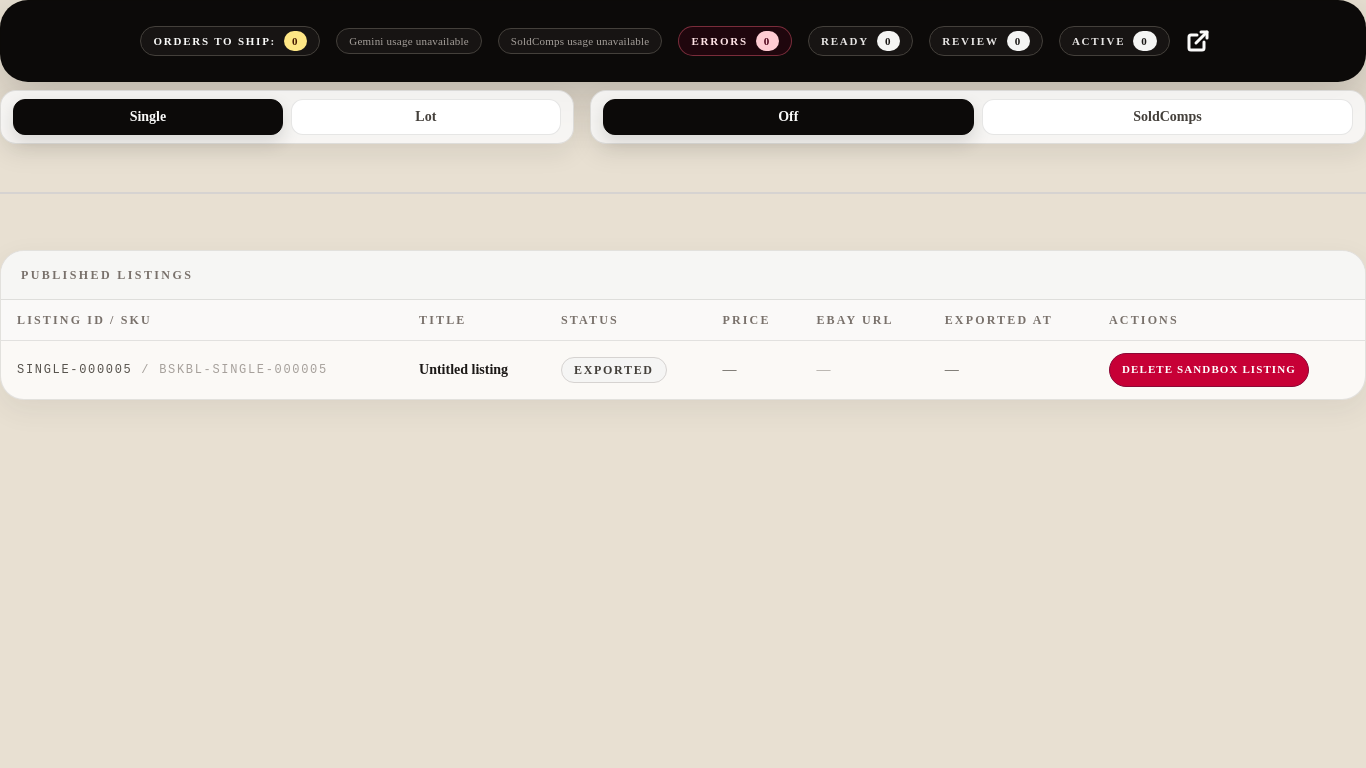
Test case: ListingsRealtime › removes a deleted sandbox listing without waiting for realtime
Click the button "Delete Sandbox Listing".
click(1209, 370)  # box [1109,353,1309,387]
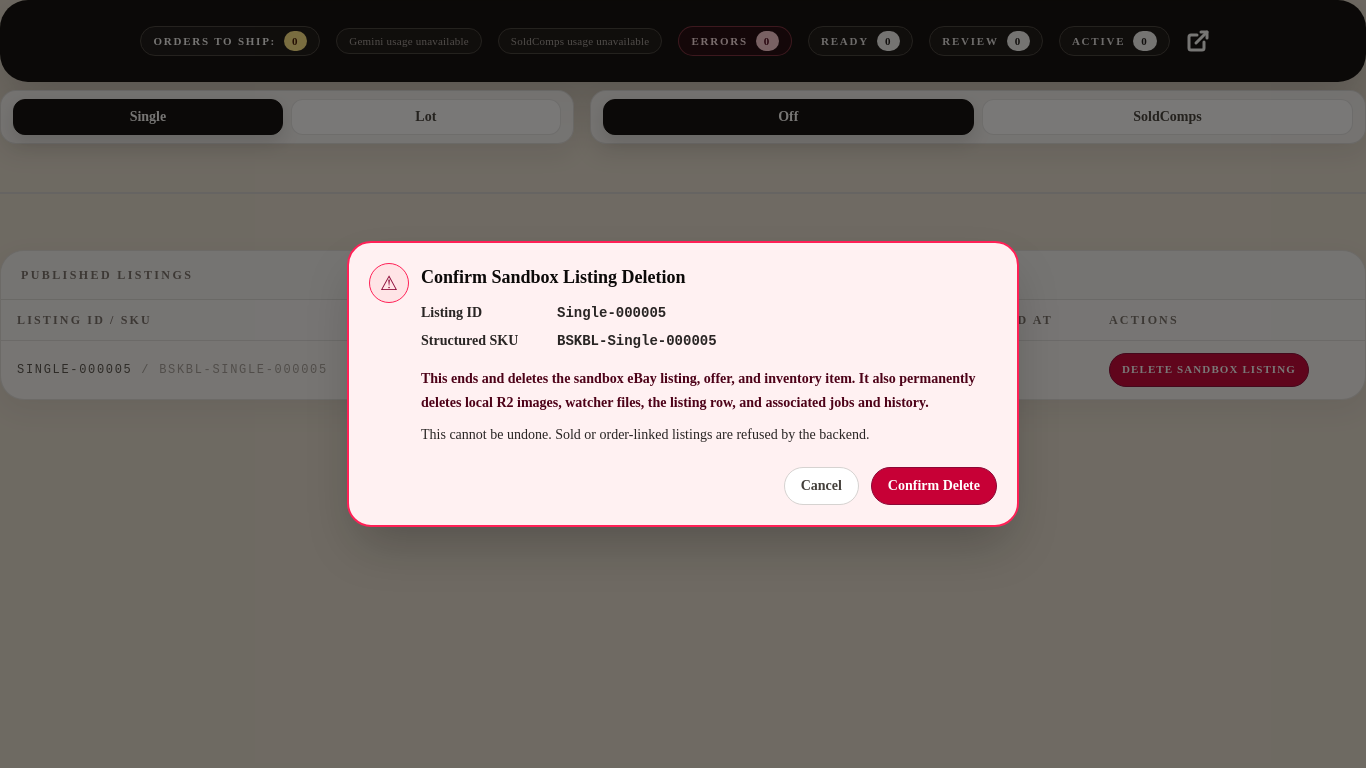
Click the button "Confirm Delete".
click(934, 486)  # box [871,467,997,505]
Wait 20 ms
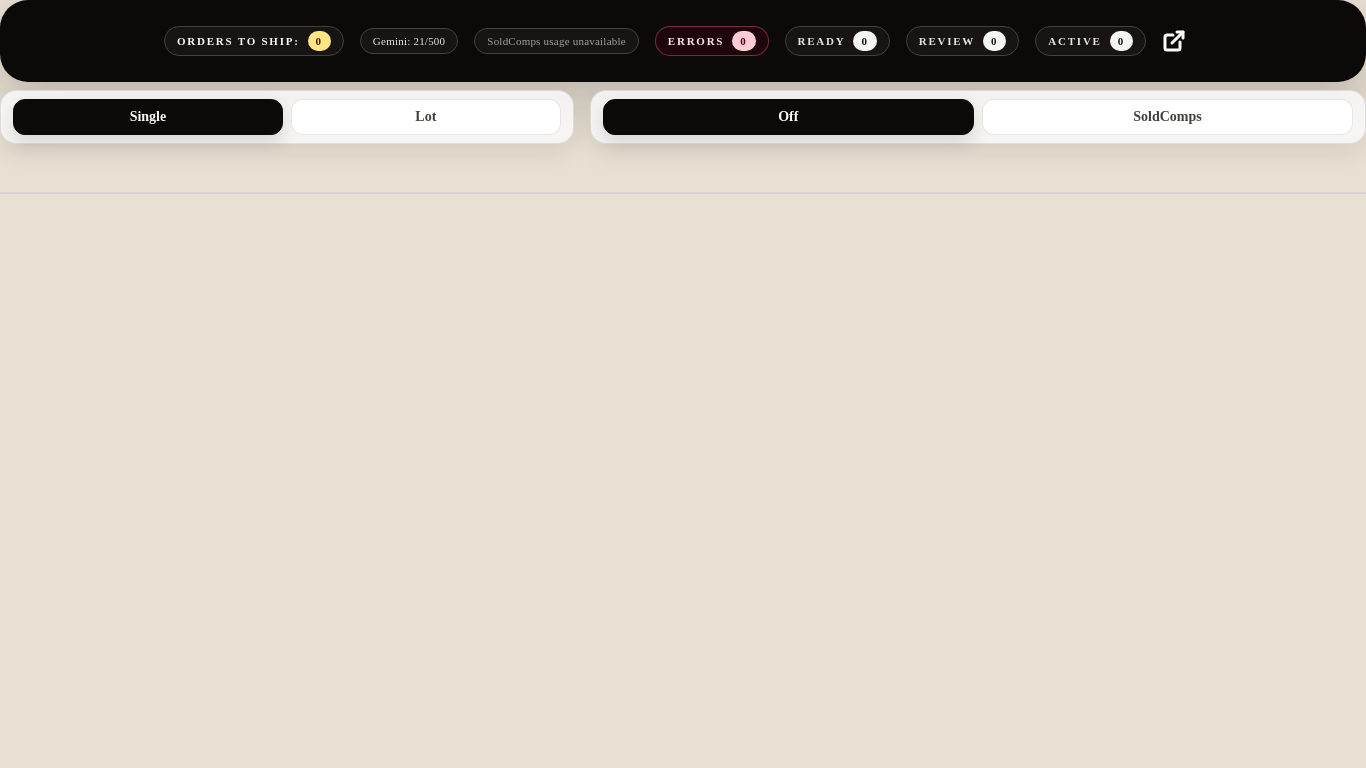
Result: the text "Single-000005" is gone
